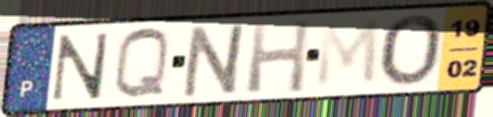H: (244, 17, 313, 96)
M: (313, 17, 382, 91)
N: (178, 20, 253, 100), (48, 31, 113, 104)
O: (377, 12, 447, 89)
Q: (111, 25, 173, 102)
